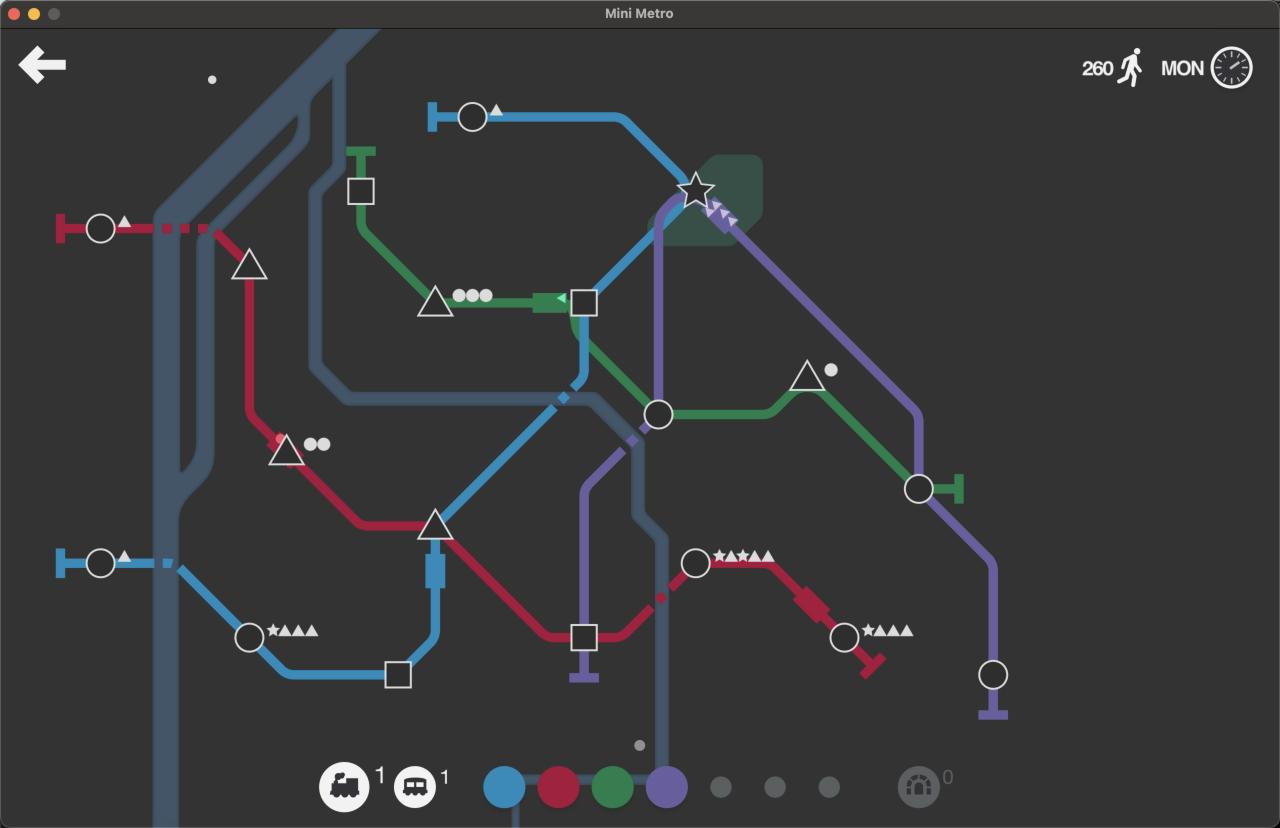CIRCLE: (643, 398, 675, 431), (903, 472, 934, 504), (85, 212, 116, 244), (85, 547, 116, 579), (977, 659, 1009, 690), (234, 621, 265, 653), (829, 622, 860, 654), (458, 101, 488, 133), (680, 547, 710, 578)
SQUARE: (570, 288, 600, 317), (383, 660, 413, 689), (347, 177, 376, 206), (570, 623, 599, 652)
STAR: (676, 169, 716, 209)
TRIANGLE: (416, 507, 456, 542), (230, 247, 269, 282), (267, 432, 306, 467), (416, 284, 455, 319), (788, 358, 826, 392)
